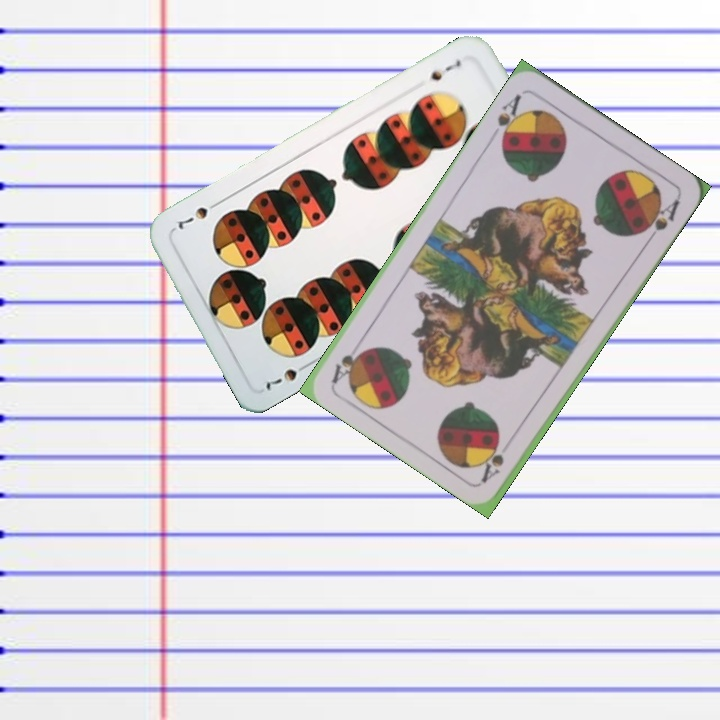S7: (258, 358, 313, 392), (422, 55, 464, 84)
SA: (493, 89, 527, 147), (477, 443, 507, 485)
